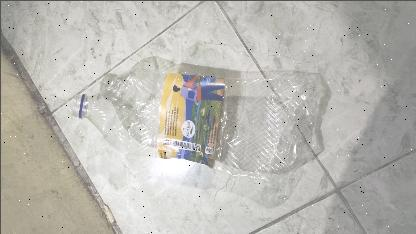Plastic Bottle: (71, 67, 323, 181)
